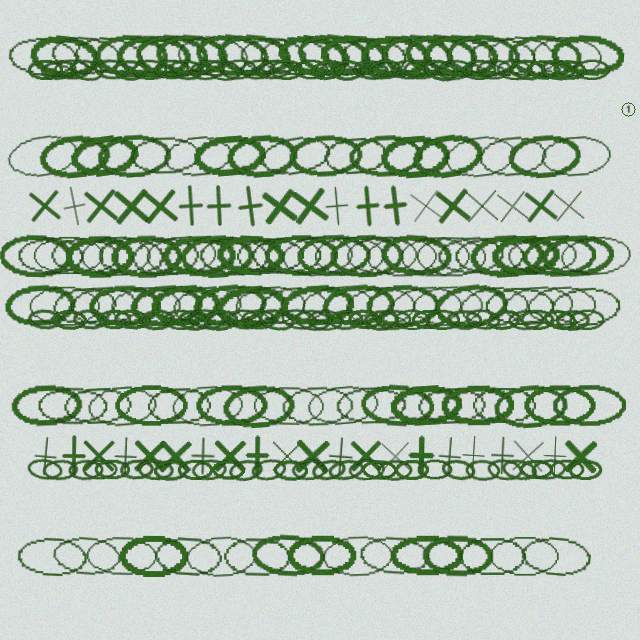chain: (255, 129, 335, 183), (294, 29, 374, 82), (3, 129, 82, 182), (409, 129, 487, 182), (441, 130, 520, 182), (274, 30, 352, 82), (193, 30, 272, 81), (432, 280, 511, 331), (67, 130, 143, 182), (402, 30, 479, 81), (174, 31, 252, 80), (27, 31, 103, 81), (37, 131, 113, 181), (47, 31, 124, 80), (215, 31, 292, 80), (379, 31, 456, 80), (169, 281, 246, 330), (191, 281, 268, 330), (84, 381, 161, 430), (304, 381, 381, 430), (517, 531, 594, 580), (557, 232, 635, 280), (492, 382, 570, 430), (70, 31, 146, 80), (475, 131, 551, 180), (320, 281, 396, 330), (4, 32, 81, 80), (456, 282, 533, 330), (484, 31, 559, 80), (160, 131, 235, 180), (191, 132, 267, 180), (506, 132, 582, 180), (128, 282, 204, 330), (213, 282, 289, 330), (256, 282, 332, 330), (221, 382, 297, 430), (49, 532, 125, 580), (422, 32, 499, 79), (445, 32, 522, 79), (96, 132, 173, 179), (143, 232, 220, 279), (468, 232, 545, 279), (232, 282, 309, 329), (250, 532, 327, 579), (378, 132, 453, 180), (127, 232, 202, 280), (540, 232, 615, 280), (154, 32, 230, 79), (256, 32, 332, 79), (549, 32, 625, 79), (279, 232, 355, 279), (279, 282, 355, 329), (299, 282, 375, 329), (501, 282, 577, 329), (524, 282, 600, 329), (169, 382, 245, 429), (359, 382, 435, 429), (356, 532, 432, 579), (319, 132, 393, 180), (48, 282, 122, 330), (183, 533, 260, 579), (134, 32, 209, 79), (225, 132, 300, 179), (538, 132, 613, 179), (379, 232, 454, 279), (3, 282, 78, 329), (67, 282, 142, 329), (388, 382, 463, 429), (150, 532, 225, 579), (507, 33, 583, 79), (288, 133, 364, 179), (521, 233, 597, 279), (108, 283, 184, 329), (388, 283, 464, 329), (547, 283, 623, 329), (434, 232, 508, 279), (149, 282, 223, 329), (529, 33, 604, 79), (348, 133, 423, 179), (179, 233, 254, 279), (14, 533, 89, 579), (318, 32, 391, 79), (78, 233, 154, 278), (329, 233, 405, 278), (410, 283, 486, 328), (279, 383, 355, 428), (320, 533, 396, 578), (337, 33, 411, 79), (466, 33, 540, 79), (343, 283, 417, 329), (60, 383, 134, 429), (414, 383, 488, 429), (127, 133, 202, 178), (196, 233, 271, 278), (296, 233, 371, 278), (344, 233, 419, 278), (505, 233, 580, 278), (365, 283, 440, 328), (333, 383, 408, 428), (237, 33, 310, 79), (115, 34, 191, 78), (94, 33, 168, 78), (0, 233, 74, 278), (10, 383, 84, 428), (161, 234, 236, 278), (414, 234, 489, 278), (95, 233, 168, 278), (47, 234, 121, 278), (110, 234, 184, 278), (364, 234, 438, 278), (452, 234, 526, 278), (35, 384, 109, 428), (251, 384, 325, 428), (84, 534, 158, 578), (421, 534, 495, 578), (215, 233, 287, 278), (490, 233, 562, 278), (31, 234, 106, 277), (312, 234, 387, 277), (114, 384, 189, 427), (359, 34, 432, 78), (233, 234, 306, 278), (398, 234, 471, 278), (88, 284, 161, 328), (220, 534, 293, 578), (249, 234, 323, 277), (264, 234, 338, 277), (27, 284, 101, 327), (482, 284, 556, 327), (195, 384, 269, 427), (440, 384, 514, 427), (523, 384, 597, 427), (552, 384, 626, 427), (389, 534, 463, 577), (15, 234, 87, 278), (64, 234, 136, 278), (455, 534, 528, 577), (487, 534, 560, 577), (144, 384, 215, 428), (118, 534, 190, 577), (286, 534, 358, 577), (469, 384, 540, 427), (421, 56, 460, 84), (257, 306, 296, 333), (67, 57, 106, 83), (204, 57, 243, 83), (500, 457, 539, 483), (309, 57, 347, 83), (541, 307, 579, 333), (227, 457, 265, 483), (310, 457, 348, 483), (327, 457, 365, 483), (486, 307, 523, 333), (440, 457, 477, 483), (188, 307, 226, 332), (280, 307, 318, 332), (26, 457, 64, 482), (486, 457, 524, 482), (539, 57, 576, 82), (464, 307, 501, 332), (250, 457, 287, 482), (530, 457, 567, 482), (294, 308, 332, 332), (40, 58, 77, 82), (168, 58, 205, 82), (189, 58, 226, 82), (352, 58, 389, 82), (202, 308, 239, 332), (552, 58, 588, 82), (93, 58, 130, 81), (220, 58, 257, 81), (255, 58, 292, 81), (496, 58, 533, 81), (509, 58, 546, 81), (113, 308, 150, 331), (138, 308, 175, 331), (226, 308, 263, 331), (137, 458, 174, 481), (348, 458, 385, 481), (240, 58, 276, 81), (367, 58, 403, 81), (27, 308, 63, 331), (72, 308, 108, 331), (347, 308, 383, 331), (119, 458, 155, 481), (191, 458, 227, 481), (291, 458, 327, 481), (436, 59, 473, 81), (307, 309, 344, 331), (42, 459, 79, 481), (526, 59, 562, 81), (51, 309, 87, 331), (328, 309, 364, 331), (363, 309, 399, 331), (376, 309, 412, 331), (446, 309, 482, 331), (508, 309, 544, 331), (555, 309, 591, 331), (68, 459, 104, 481), (361, 459, 397, 481), (377, 459, 413, 481), (394, 309, 431, 330), (113, 59, 148, 81), (330, 59, 365, 81), (177, 309, 212, 331), (153, 459, 188, 481), (211, 459, 246, 481), (273, 459, 308, 481), (465, 459, 500, 481), (27, 59, 63, 80), (54, 59, 90, 80), (154, 59, 190, 80), (293, 59, 329, 80), (391, 59, 427, 80), (403, 59, 439, 80), (476, 59, 512, 80), (574, 59, 610, 80), (163, 309, 199, 330), (241, 309, 277, 330), (424, 309, 460, 330), (569, 309, 605, 330), (82, 459, 118, 480), (94, 459, 130, 480), (177, 459, 213, 480), (417, 459, 453, 480), (549, 459, 585, 480), (132, 59, 167, 80), (269, 59, 304, 80), (462, 59, 497, 80), (97, 309, 132, 330), (411, 309, 446, 330), (520, 309, 555, 330), (394, 459, 429, 480), (519, 459, 554, 480), (568, 459, 603, 480)
noise: (619, 100, 637, 118)
single: (49, 181, 99, 231), (285, 181, 334, 230), (401, 181, 450, 230), (226, 182, 274, 230), (255, 182, 303, 230), (488, 182, 536, 230), (21, 182, 68, 229), (77, 182, 124, 229), (372, 182, 419, 229), (429, 182, 476, 229), (517, 182, 564, 229), (545, 182, 592, 229), (108, 183, 154, 229), (137, 183, 183, 229), (314, 183, 360, 229), (345, 183, 391, 229), (22, 433, 68, 479), (317, 433, 363, 479), (426, 433, 472, 479), (168, 183, 213, 228), (196, 183, 241, 228), (459, 183, 504, 228), (451, 433, 496, 478), (480, 433, 525, 478), (505, 433, 550, 478), (103, 434, 147, 478), (153, 434, 197, 478), (181, 434, 225, 478), (290, 434, 334, 478), (373, 434, 417, 478), (533, 434, 577, 478), (558, 434, 602, 478), (52, 434, 95, 477), (77, 434, 120, 477), (128, 434, 171, 477), (208, 434, 251, 477), (236, 434, 279, 477), (265, 434, 308, 477), (344, 434, 387, 477), (400, 434, 443, 477)
